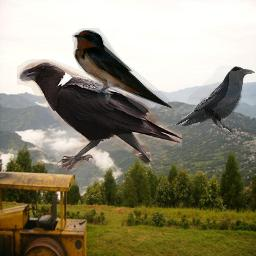Crow: (17, 59, 182, 175), (175, 66, 255, 132)
Swallow: (71, 28, 174, 110)
